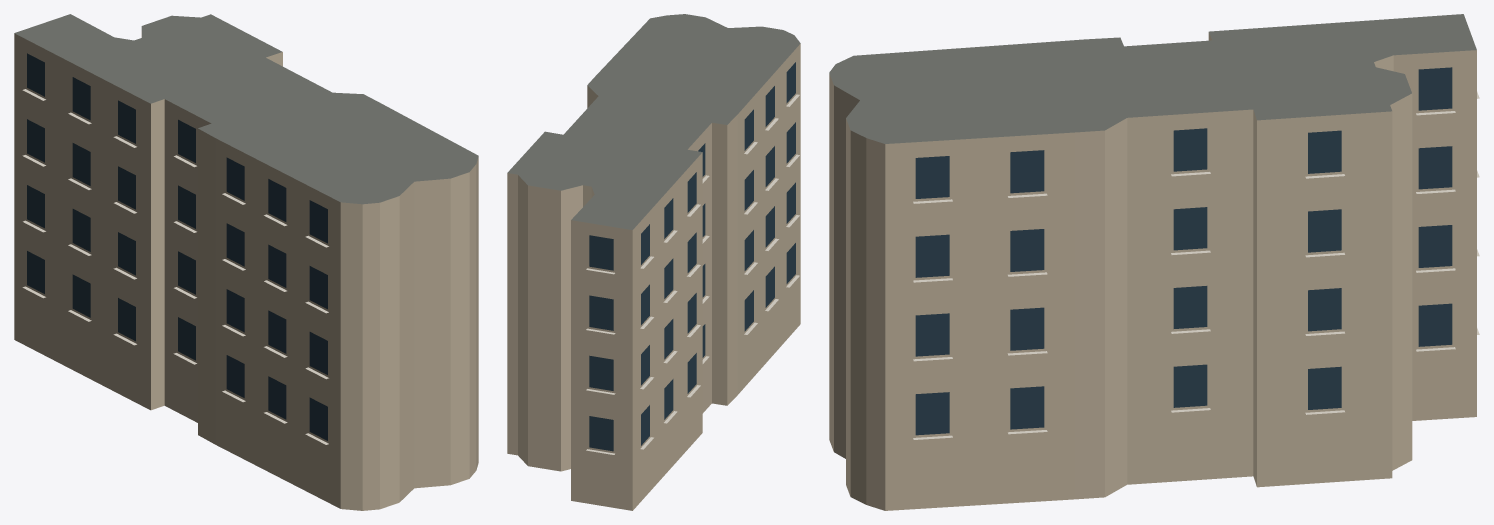
3 renders of one model, left to right at view 1: azimuth 30°, elevation 25°; view 2: azimuth 150°, elevation 25°; view 3: azimuth 270°, elevation 25°, orthographic. The views are drawn at different scales.
Visible parts, largest first — view 1: Footprint 0, Inferred window bays, Window sills; view 2: Footprint 0, Inferred window bays, Window sills; view 3: Footprint 0, Inferred window bays, Window sills.
Part boxes in pixels (x1,y1,x2,y2): Footprint 0: [14, 14, 478, 510]; Inferred window bays: [27, 53, 327, 440]; Window sills: [22, 89, 328, 444]; Footprint 0: [507, 14, 800, 510]; Inferred window bays: [589, 62, 795, 451]; Window sills: [586, 94, 799, 454]; Footprint 0: [829, 14, 1476, 510]; Inferred window bays: [915, 67, 1452, 435]; Window sills: [913, 91, 1479, 439].
Bounding box in the file's own units: 11.36 × 14.7 × 23.63.
